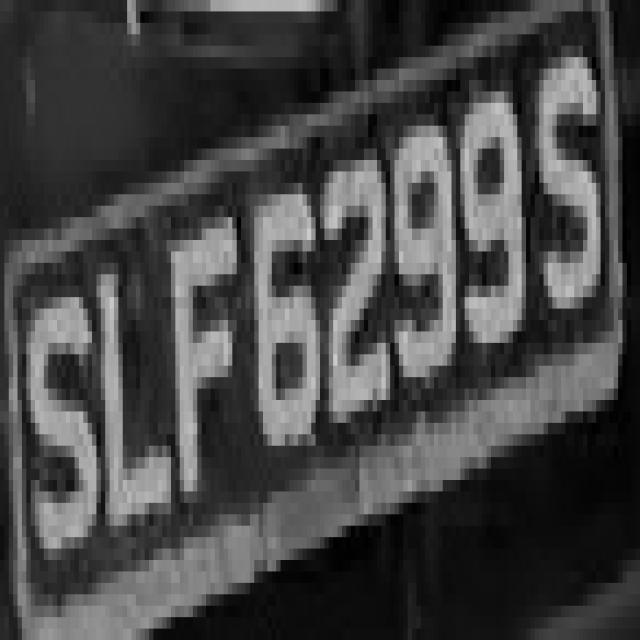2: (320, 114, 399, 446)
6: (241, 172, 324, 457)
9: (451, 91, 535, 423), (390, 91, 460, 400)
F: (162, 183, 254, 514)
L: (79, 217, 180, 537)
S: (22, 252, 92, 594), (526, 46, 609, 331)
